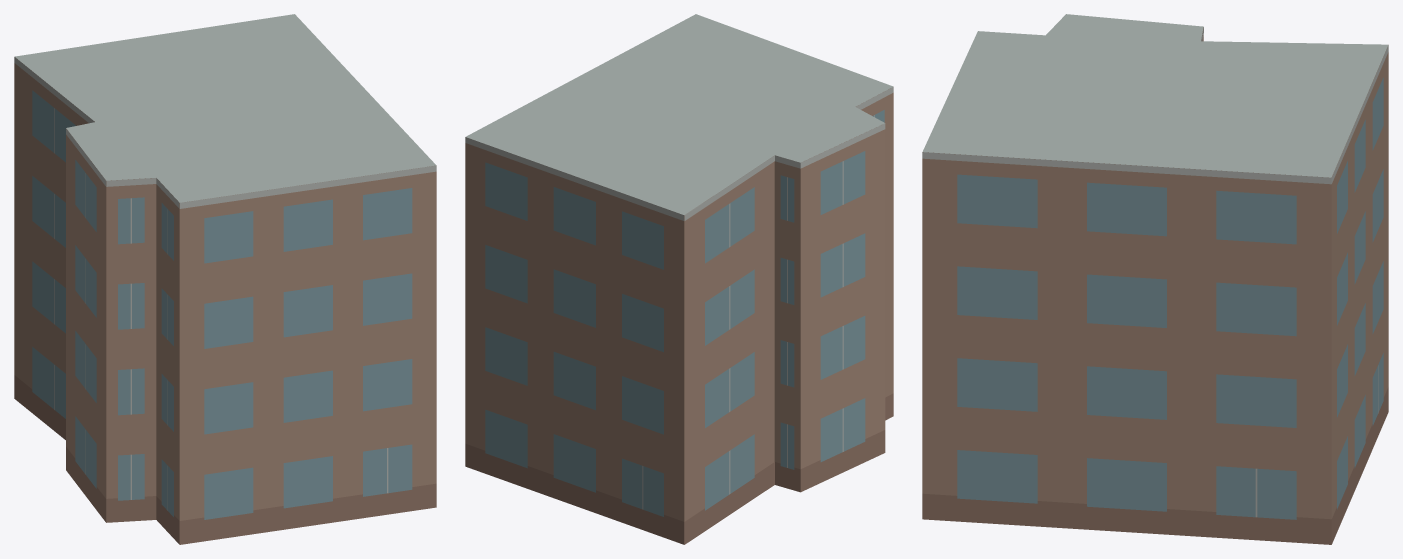
The model's file is survey-upis-32676576.glb.
The picture shows the model from 3 angles, left to right: view 1: azimuth 30°, elevation 25°; view 2: azimuth 150°, elevation 25°; view 3: azimuth 270°, elevation 25°; orthographic projection. The views are drawn at different scales.
Parts seen in each view (by area): view 1: survey-upis-32676576.tmp; view 2: survey-upis-32676576.tmp; view 3: survey-upis-32676576.tmp.
Boxes of the visible parts, bbox=[...] form: survey-upis-32676576.tmp: bbox=[14, 14, 436, 544]; survey-upis-32676576.tmp: bbox=[465, 14, 893, 544]; survey-upis-32676576.tmp: bbox=[922, 14, 1388, 544].
Size of the model in its own units: 12.91 by 13.5 by 15.54.
